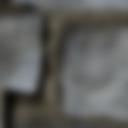brick: (59, 24, 127, 118), (0, 11, 40, 90)
broken_brick: (13, 0, 127, 9), (15, 123, 94, 127)
crack: (0, 1, 51, 127), (0, 0, 13, 2)
